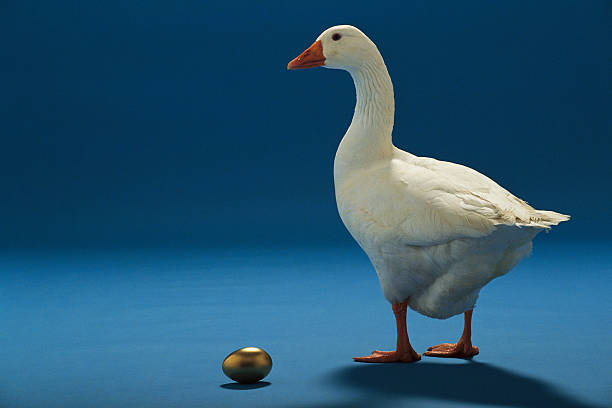goose: (281, 20, 578, 370)
